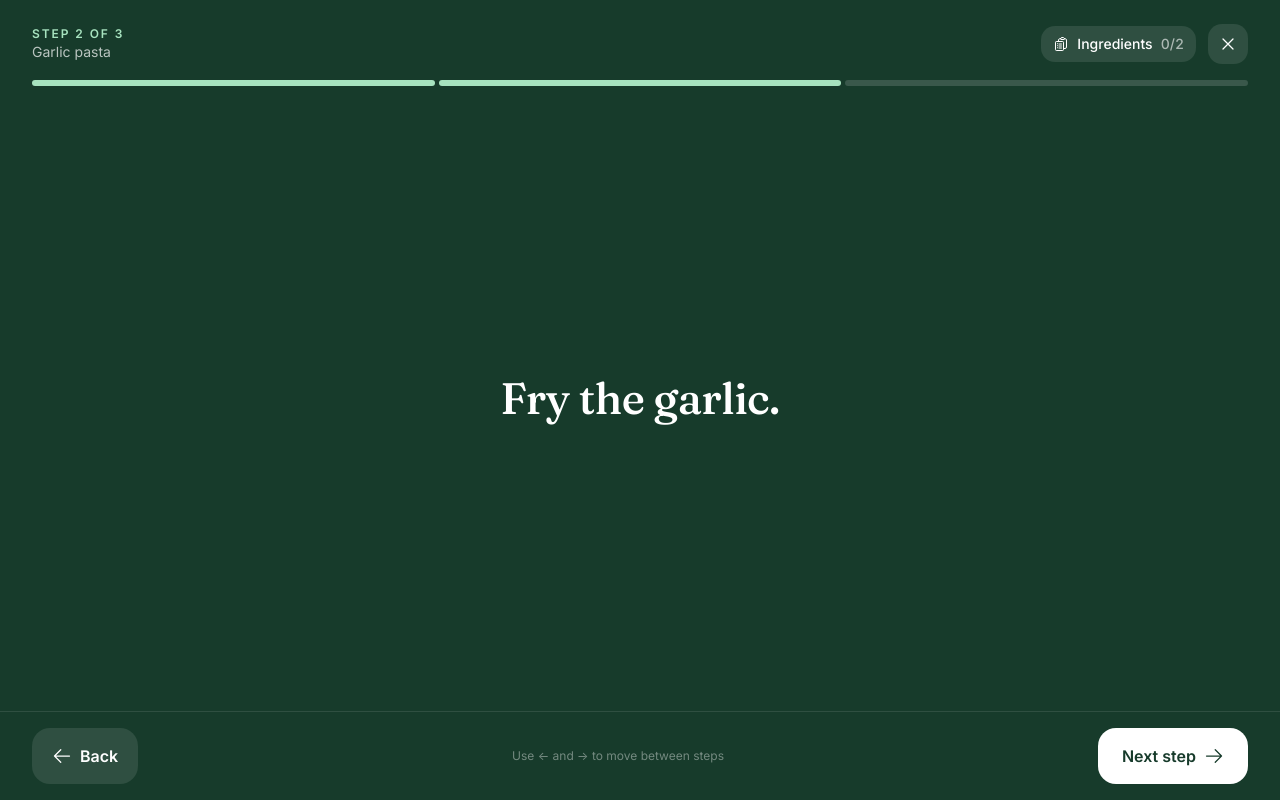
Test: CookMode › starts at the requested step and jumps via the progress segments
Expected: the text "Fry the garlic." is shown, [500,370,780,427]
Click the button named "Go to step 3": coordinates (1047, 83) [845,80,1248,86]
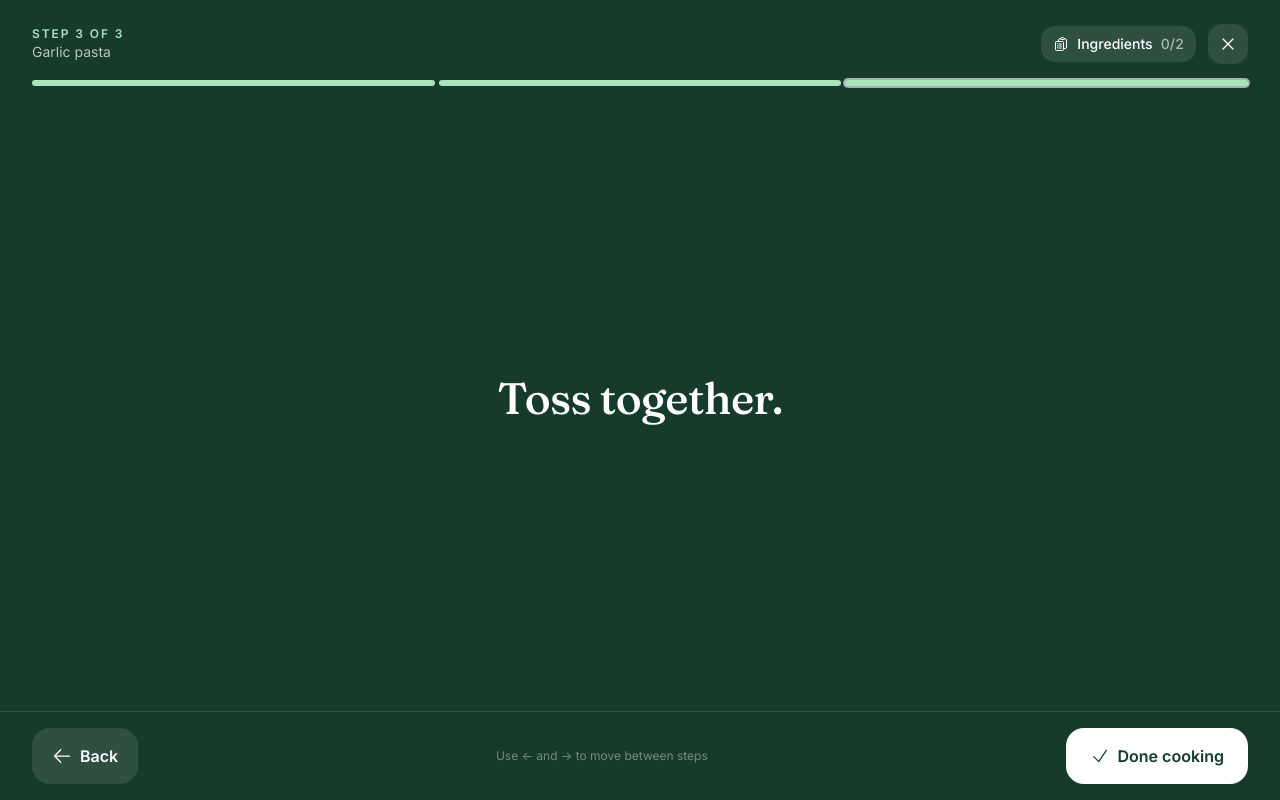
Expected: the text "Toss together." is shown, [498,370,783,427]
